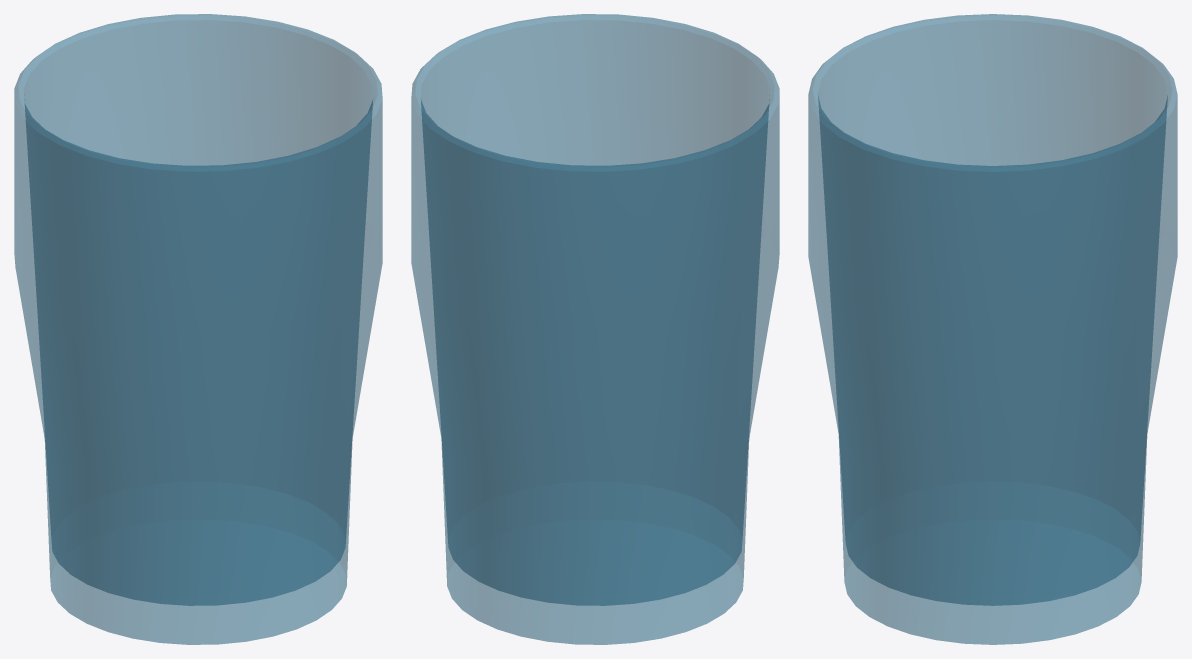
File: Glass 2.fbx
3 views of the same model, side by side, from view 1: azimuth 30°, elevation 25°; view 2: azimuth 150°, elevation 25°; view 3: azimuth 270°, elevation 25° (orthographic).
Visible parts, largest first — view 1: Glass 2; view 2: Glass 2; view 3: Glass 2.
Boxes of the visible parts, x1,y1,x2,y2 form: Glass 2: (14,14,382,644); Glass 2: (411,14,779,644); Glass 2: (808,14,1177,644).
Size of the model in its own units: 8 by 11.77 by 8.
